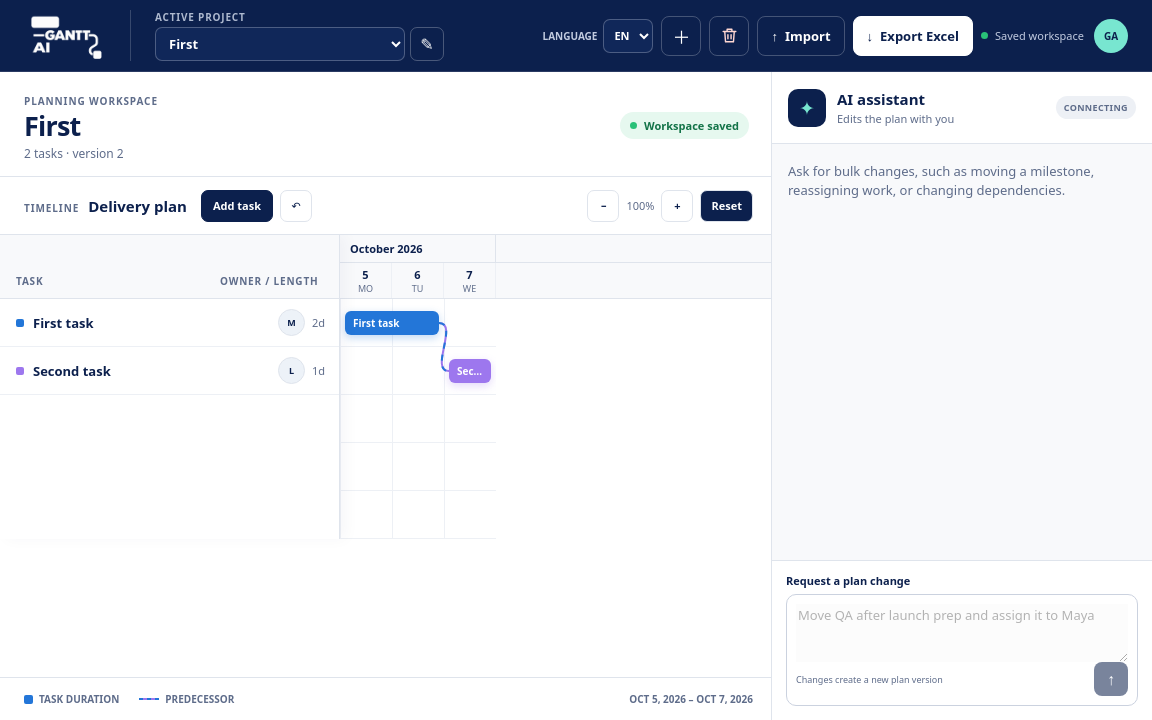
plan view › renames project metadata and preserves the version
The width and height of the screenshot is (1152, 720).
Click the button named "Rename project": (427, 44) [410,27,444,61]
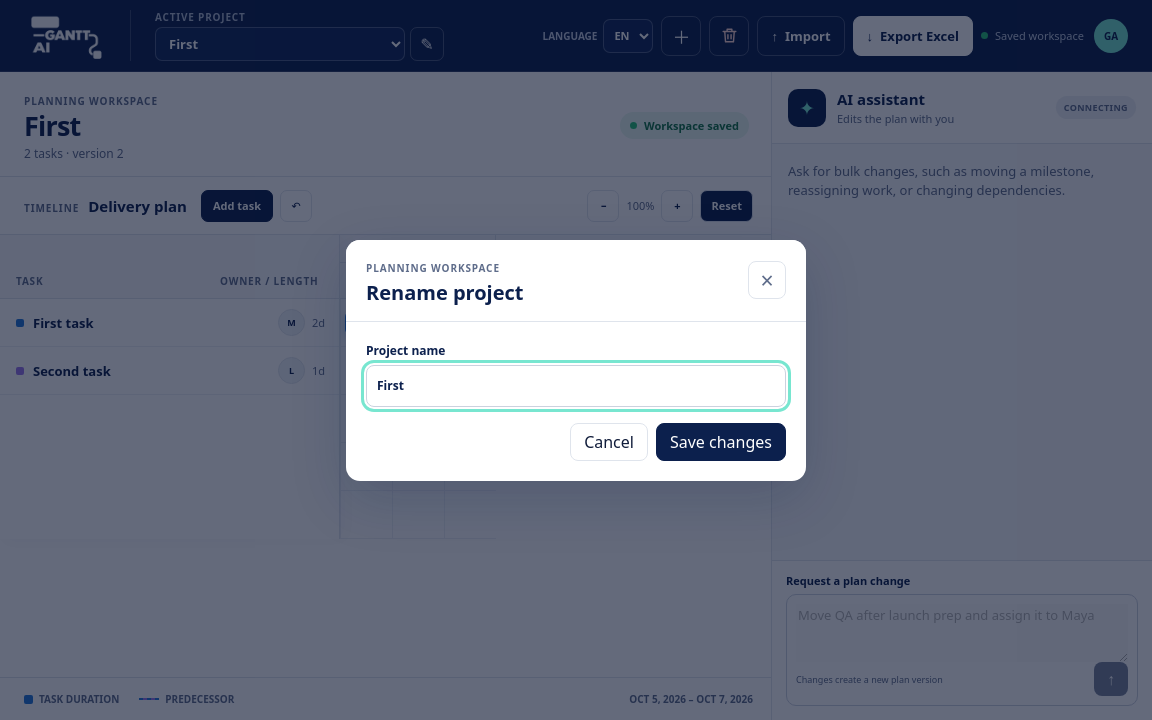
Replace the text in the field labelled "Project name" with "  Delivery  ": (576, 386) [366,364,786,406]
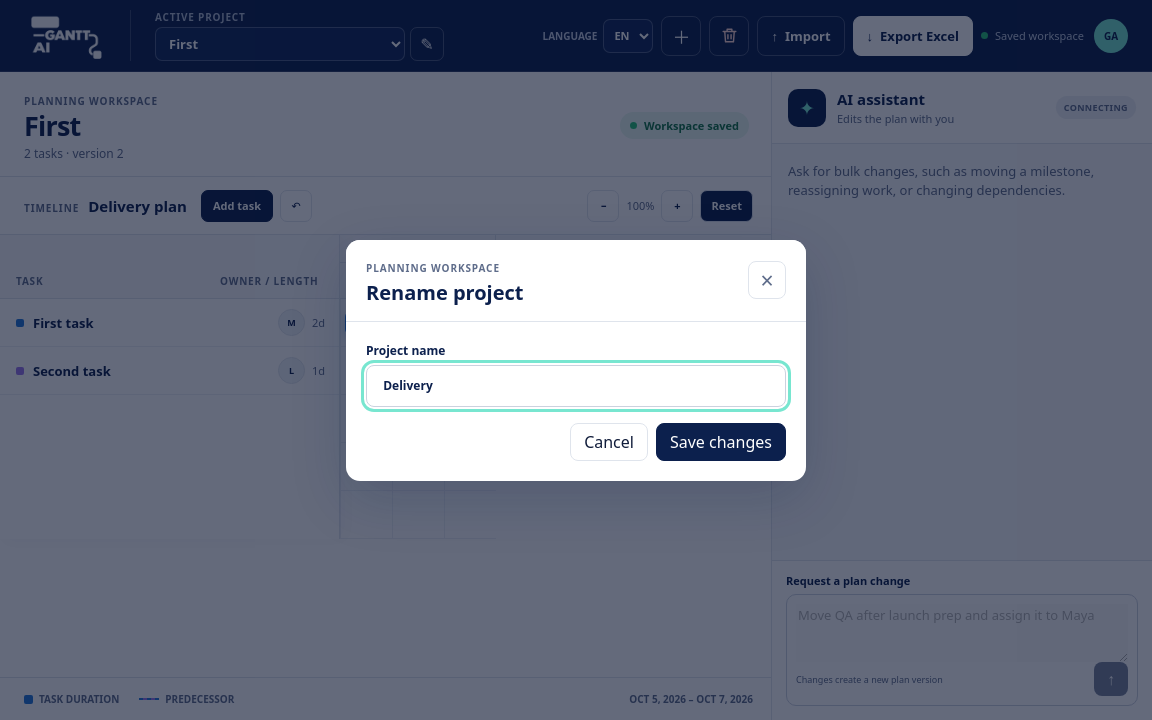
Click the button "Save changes": (721, 442) [656,422,786,460]
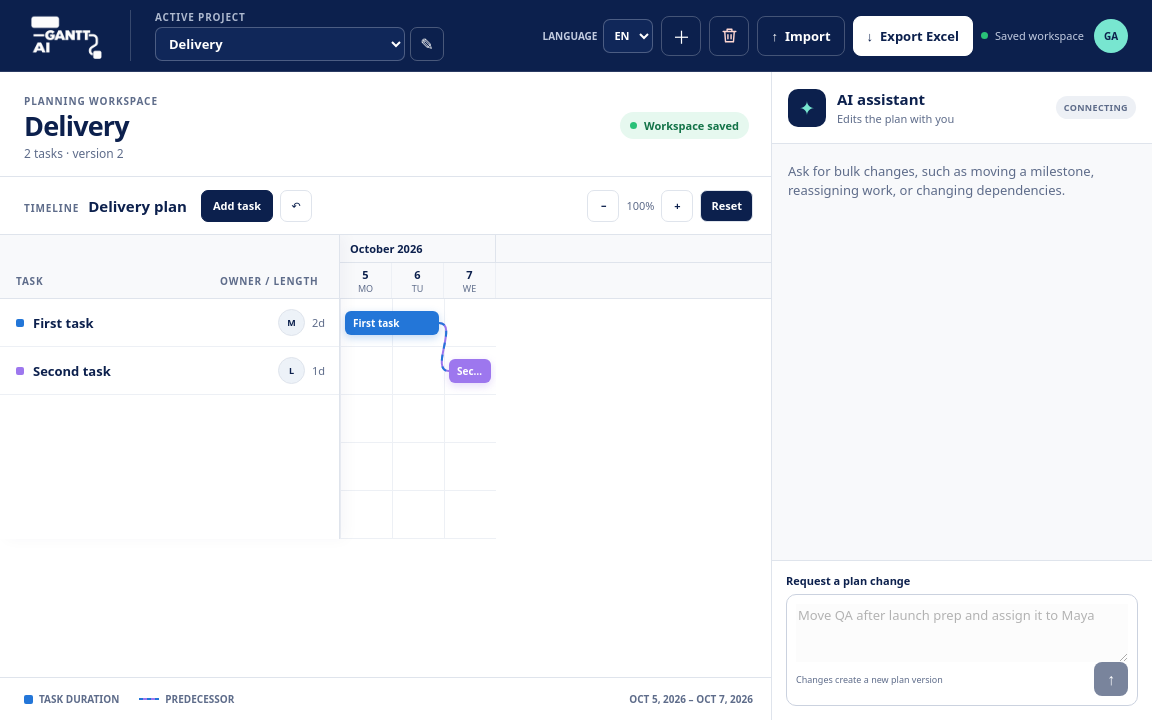
Expected: the text "2 tasks · version 2" is shown, [24,145,124,162]
Result: the heading "Delivery" is shown at [24,107,129,144]
